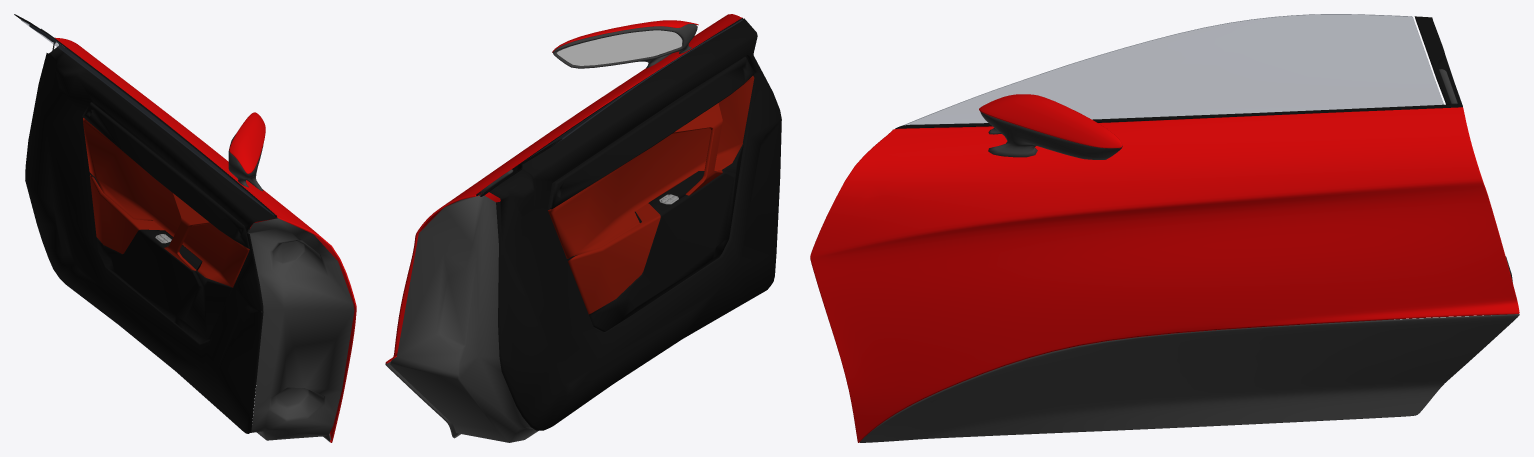
3 renders of one model, left to right at view 1: azimuth 30°, elevation 25°; view 2: azimuth 150°, elevation 25°; view 3: azimuth 270°, elevation 25°, orthographic. The views are drawn at different scales.
Parts seen in each view (by area): view 1: InteriorDoorL01, InteriorDoorL04, BodyDoorLColor1, BodyDoorLWindow, BodyDoorLHandle01, BodyDoorLColor2; view 2: InteriorDoorL01, InteriorDoorL04, BodyDoorLColor1, BodyDoorLMirror, BodyDoorLColor2, BodyDoorLHandle01, BodyDoorLWindow; view 3: BodyDoorLColor1, BodyDoorLColor2, BodyDoorLWindow, BodyDoorLHandle01.
Boxes of the visible parts, <box> form: InteriorDoorL01: <box>25,42,354,440</box>; InteriorDoorL04: <box>83,118,249,287</box>; BodyDoorLColor1: <box>54,37,356,442</box>; BodyDoorLWindow: <box>21,20,274,215</box>; BodyDoorLHandle01: <box>14,14,276,216</box>; BodyDoorLColor2: <box>41,28,331,442</box>; InteriorDoorL01: <box>390,18,781,442</box>; InteriorDoorL04: <box>548,76,754,314</box>; BodyDoorLColor1: <box>385,14,742,363</box>; BodyDoorLMirror: <box>557,30,682,65</box>; BodyDoorLColor2: <box>385,24,697,438</box>; BodyDoorLHandle01: <box>476,18,742,196</box>; BodyDoorLWindow: <box>530,19,742,157</box>; BodyDoorLColor1: <box>810,94,1519,442</box>; BodyDoorLColor2: <box>859,69,1519,442</box>; BodyDoorLWindow: <box>904,14,1443,125</box>; BodyDoorLHandle01: <box>895,16,1462,128</box>.
Bounding box in the file's own units: 0.4344 × 0.9591 × 1.67.
